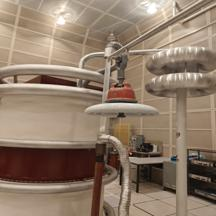insulator: (83, 77, 160, 123)
